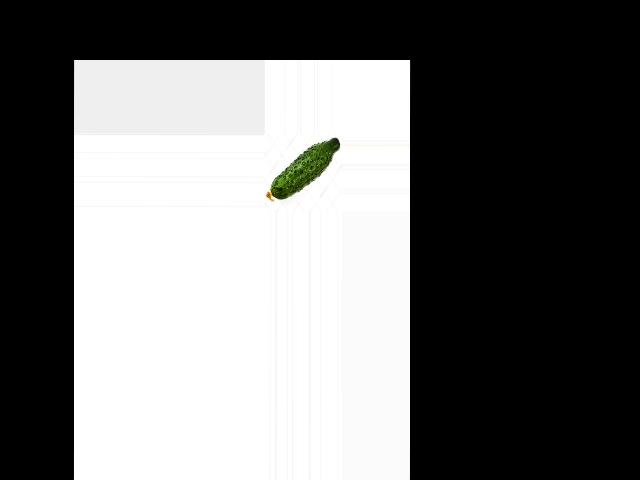cucumber: (265, 137, 339, 201)
